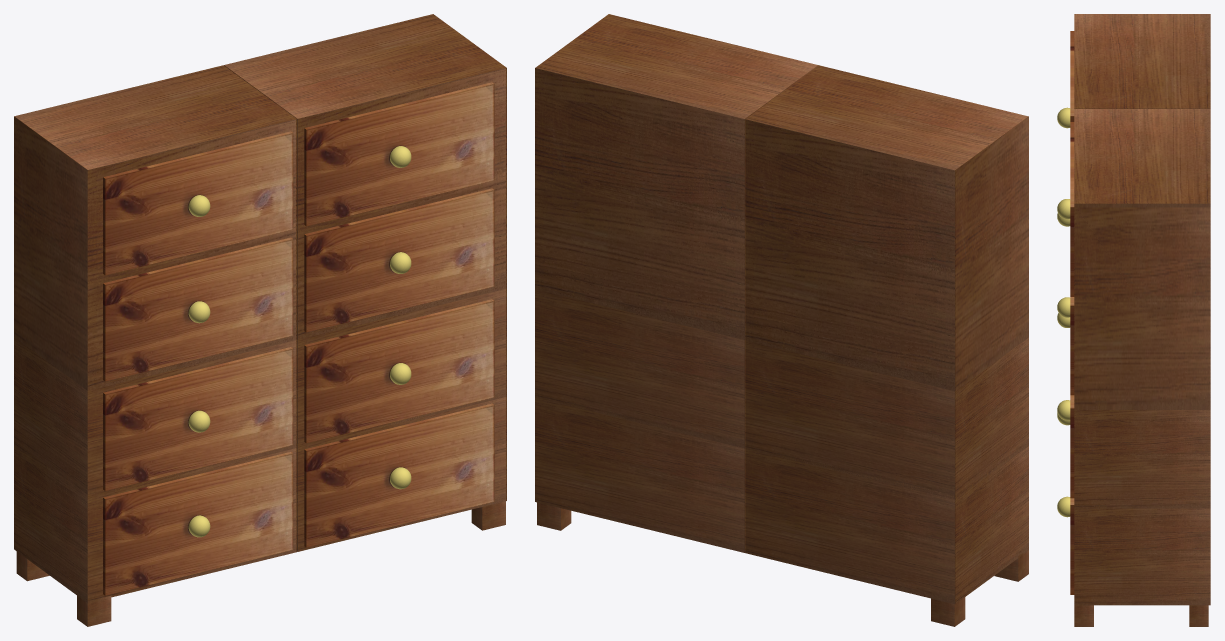
The model's file is MuebleCajones.fbx.
3 views of the same model, side by side, from view 1: azimuth 30°, elevation 25°; view 2: azimuth 150°, elevation 25°; view 3: azimuth 270°, elevation 25° (orthographic). The views are drawn at different scales.
Visible parts, largest first — view 1: Esfera; view 2: Esfera; view 3: Esfera.
Boxes of the visible parts, left/top/right/bottom form: Esfera: left=14, top=14, right=506, bottom=626; Esfera: left=535, top=14, right=1028, bottom=626; Esfera: left=1057, top=14, right=1210, bottom=626.
Size of the model in its own units: 192 by 200 by 65.59.
Materials: 26 (18 with a texture image).
